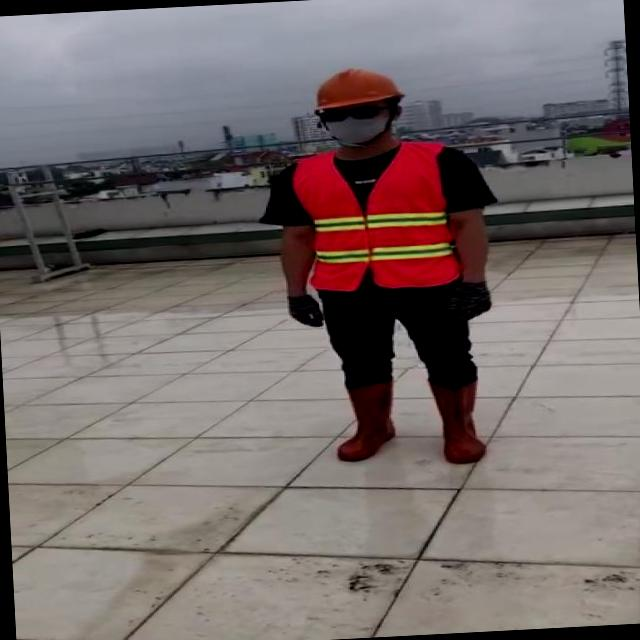boots: (328, 386, 398, 464), (430, 379, 491, 466)
gloves: (443, 278, 496, 324), (282, 291, 326, 328)
vest: (290, 140, 460, 294)
